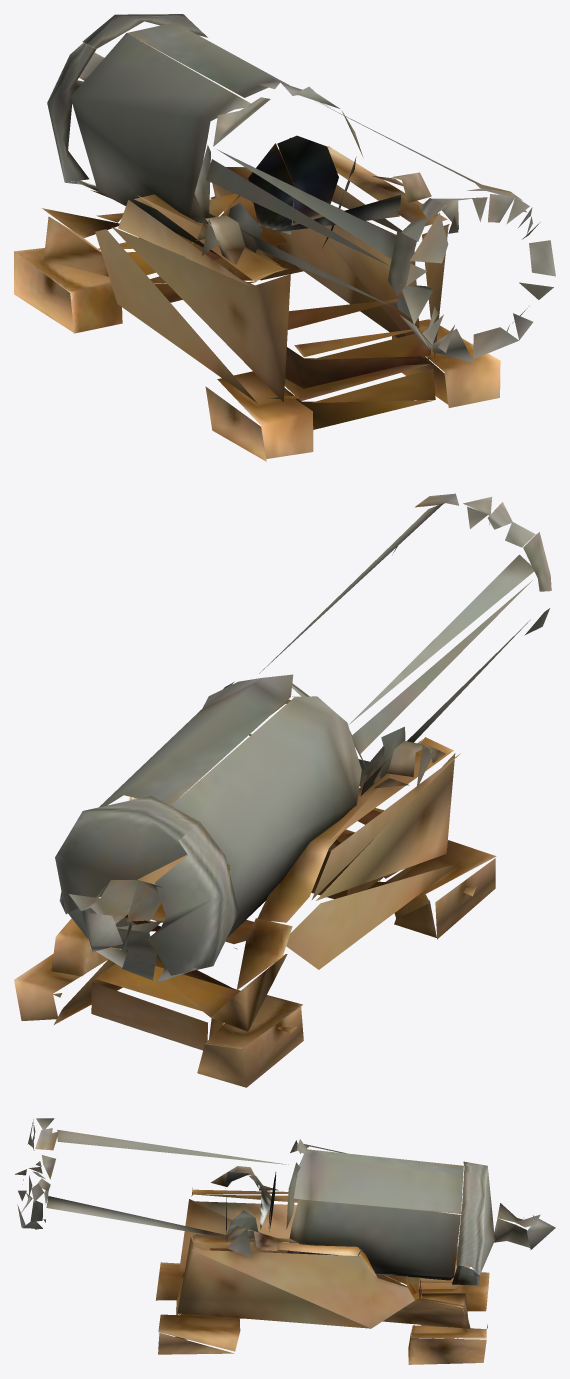
File: taiho.glb
3 views of the same model, one above another, from view 1: azimuth 30°, elevation 25°; view 2: azimuth 150°, elevation 25°; view 3: azimuth 270°, elevation 25° (orthographic). The views are drawn at different scales.
Parts seen in each view (by area): view 1: cannon; view 2: cannon; view 3: cannon.
Boxes of the visible parts, x1=… form: cannon: x1=14, y1=14, x2=555, y2=461; cannon: x1=14, y1=493, x2=551, y2=1087; cannon: x1=15, y1=1118, x2=555, y2=1364.
Size of the model in its own units: 0.1771 by 0.2152 by 0.501.
1 material, 1 textured.
